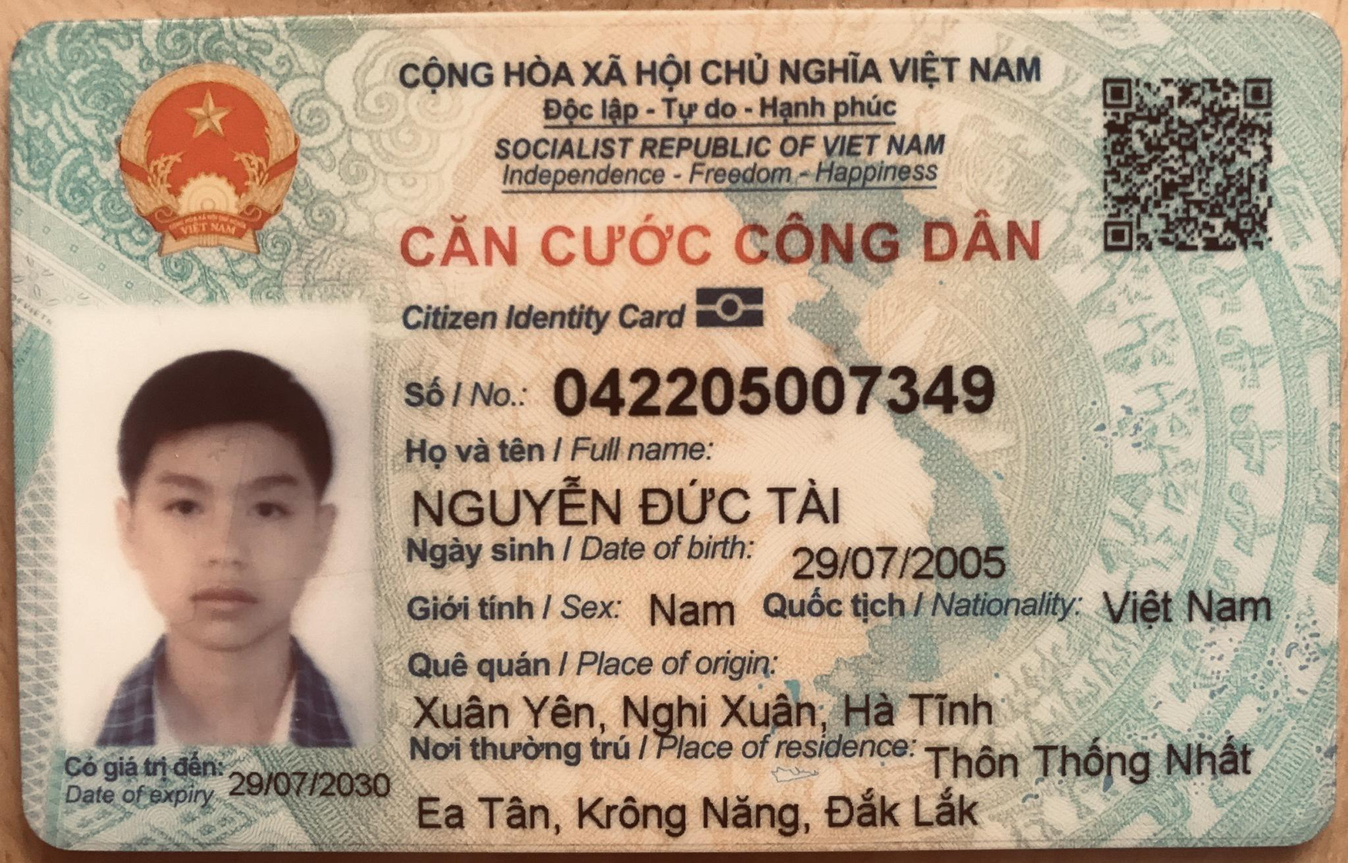ID: (530, 346, 1039, 428)
birth: (779, 537, 1034, 586)
name: (385, 473, 875, 537)
place: (392, 683, 1016, 736)
residence: (403, 779, 985, 846), (919, 726, 1262, 793)
